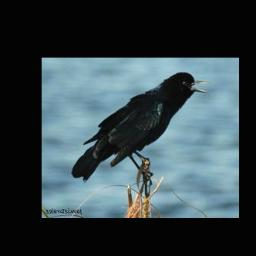Crow: (72, 72, 210, 186)
